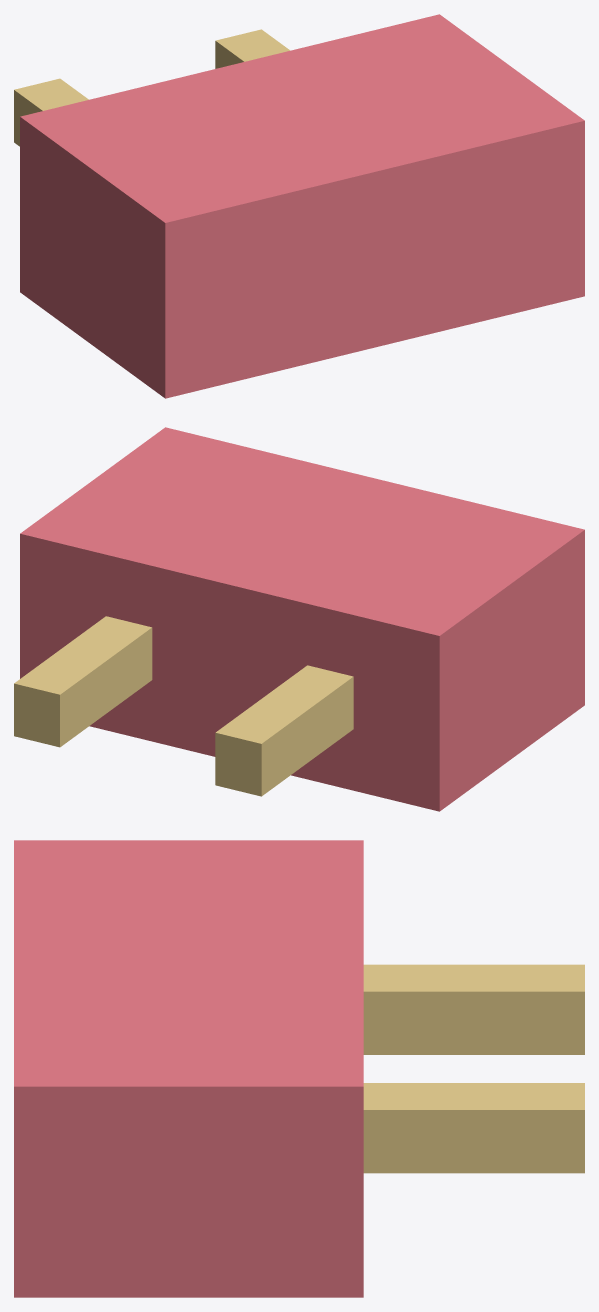
Rendered from 124_L109_W165_TrustedThermalJumper.glb.
3 views of the same model, one above another, from view 1: azimuth 30°, elevation 25°; view 2: azimuth 150°, elevation 25°; view 3: azimuth 270°, elevation 25° (orthographic). The views are drawn at different scales.
Visible parts, largest first — view 1: L109_W165_TrustedThermalJumper_RED, L109_W165_TrustedThermalJumper_GOLD; view 2: L109_W165_TrustedThermalJumper_RED, L109_W165_TrustedThermalJumper_GOLD; view 3: L109_W165_TrustedThermalJumper_RED, L109_W165_TrustedThermalJumper_GOLD.
Part boxes in pixels (x1,y1,x2,y2): L109_W165_TrustedThermalJumper_RED: (20,14,584,398); L109_W165_TrustedThermalJumper_GOLD: (14,29,289,146); L109_W165_TrustedThermalJumper_RED: (20,427,584,811); L109_W165_TrustedThermalJumper_GOLD: (14,616,353,796); L109_W165_TrustedThermalJumper_RED: (14,840,363,1297); L109_W165_TrustedThermalJumper_GOLD: (363,964,584,1173).
Bounding box in the file's own units: 5 × 2 × 4.9.
